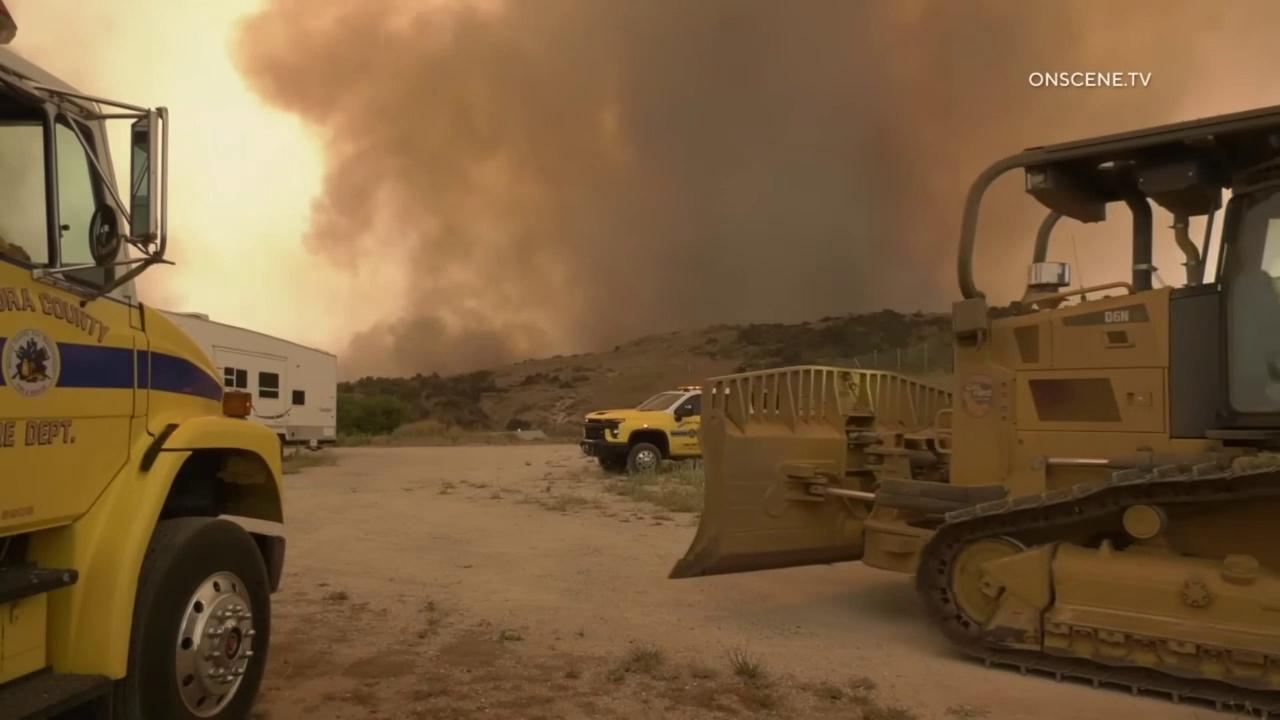smoke: (223, 0, 1280, 382)
